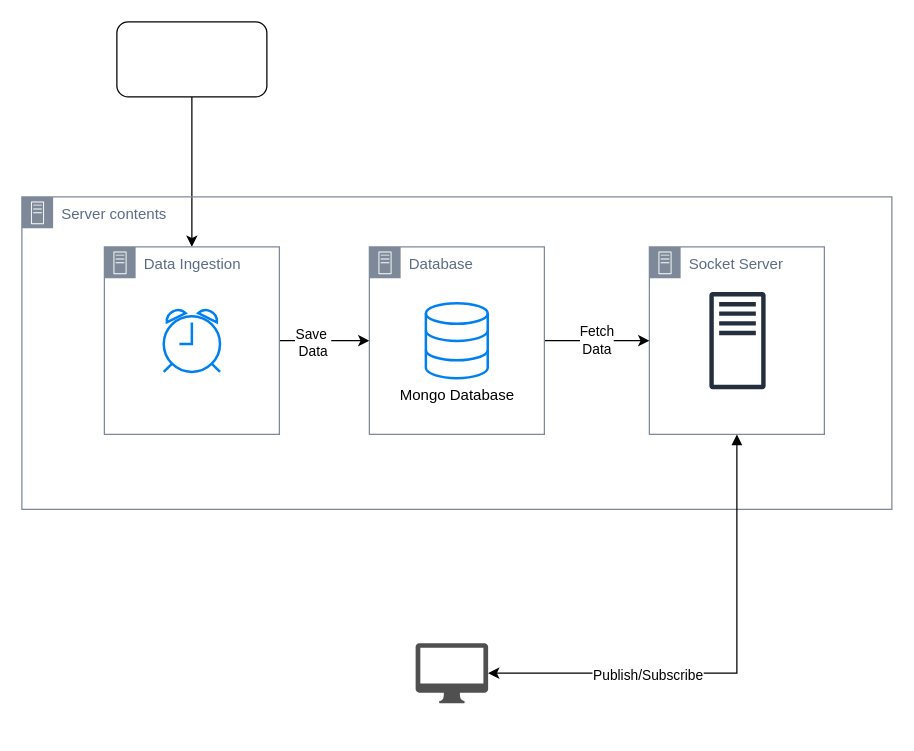
The diagram is 914 pixels wide and 751 high, and some of its shapes have lost their labels. The centre of each missing label's shape, as x and y in pixels:
"Client Website" belongs at (451,672).
"Data Ingestion Cron" belongs at (191,340).
"Livecoinwatch API" belongs at (191,59).
